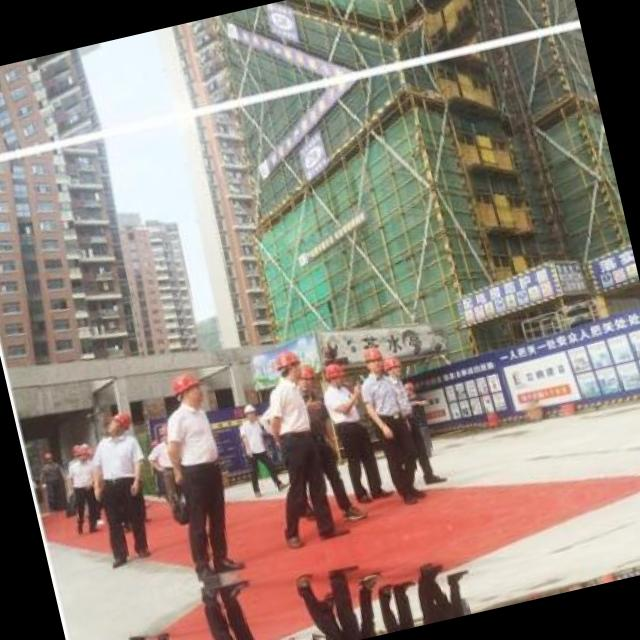helmet: (161, 364, 210, 412), (271, 344, 304, 384), (290, 355, 319, 394), (97, 408, 133, 438), (359, 344, 385, 380), (318, 359, 346, 388), (236, 395, 264, 423), (381, 353, 404, 380)
